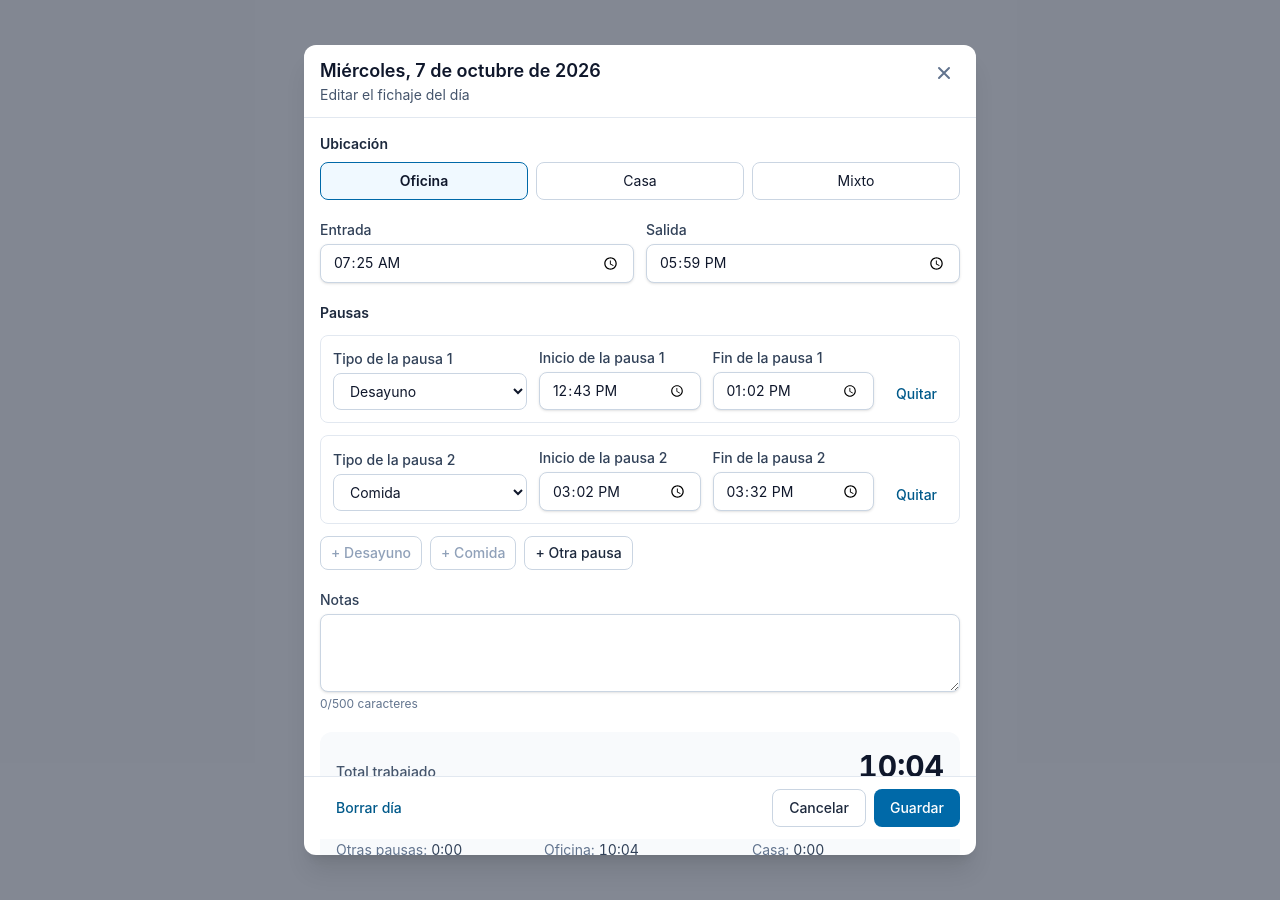
it: Editor de día › si el día cambió en otro sitio (409) avisa y recarga los datos actuales
Check: the time field labelled "Entrada" is shown, box [320,244,634,283]
Replace the text in the time field labelled "Salida" with "18:00" at (803, 263), box [646,244,960,283]
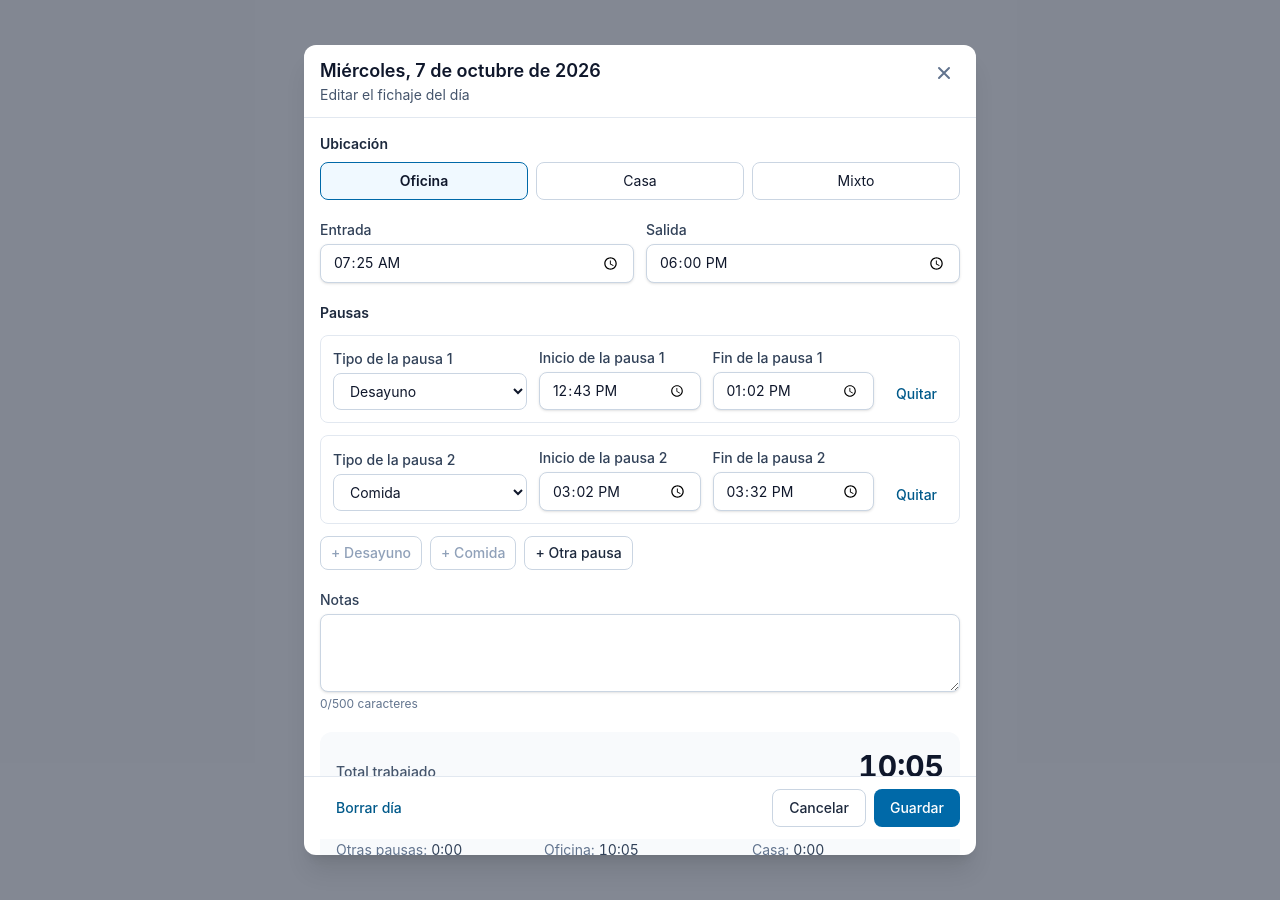
Click the button "Guardar" at (917, 808), box [874,789,960,827]
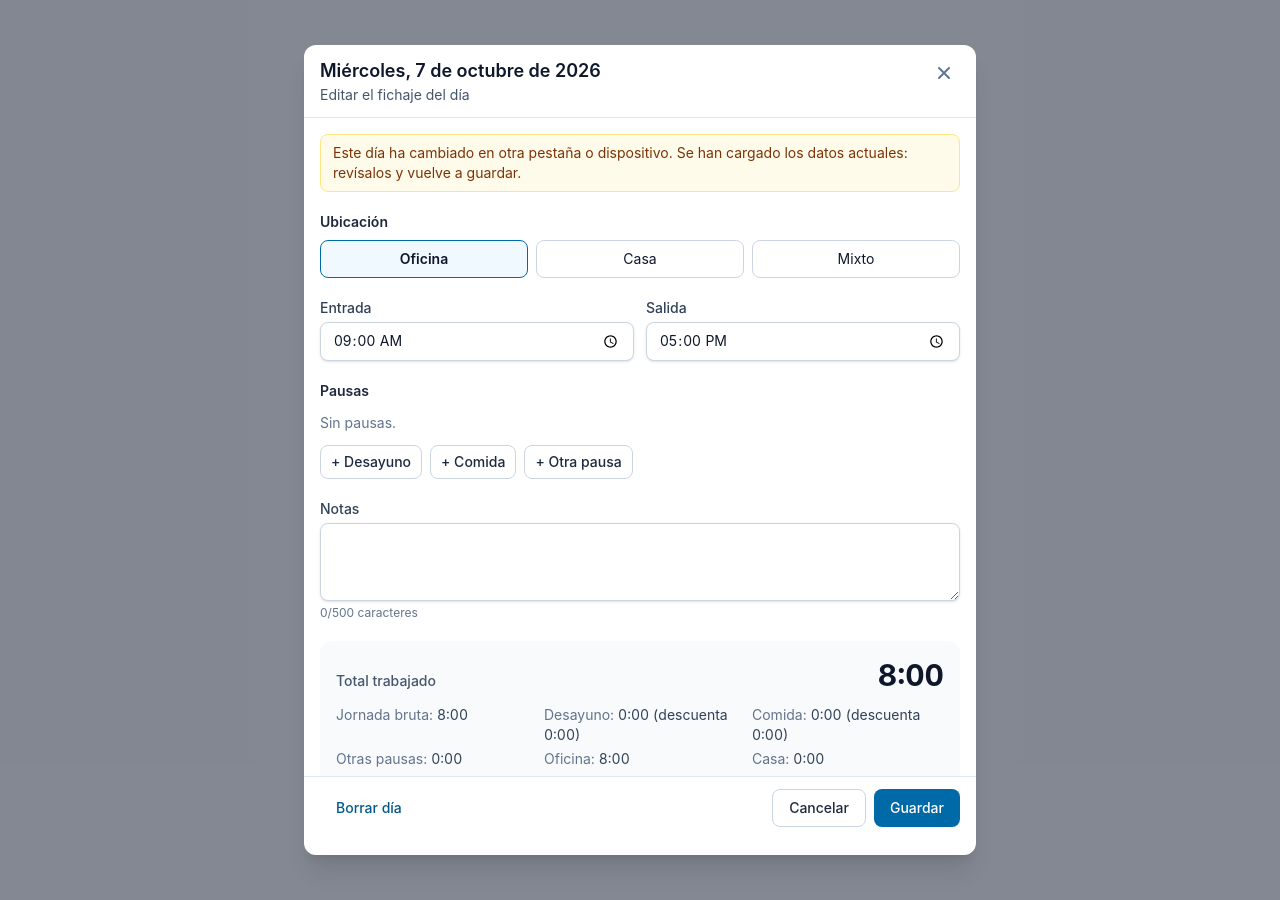
Check: the text "Este día ha cambiado en otra pestaña o dispositivo" is shown, box [333,144,908,181]
Check: the time field labelled "Entrada" holds "09:00", box [320,322,634,361]
Check: the time field labelled "Salida" holds "17:00", box [646,322,960,361]
